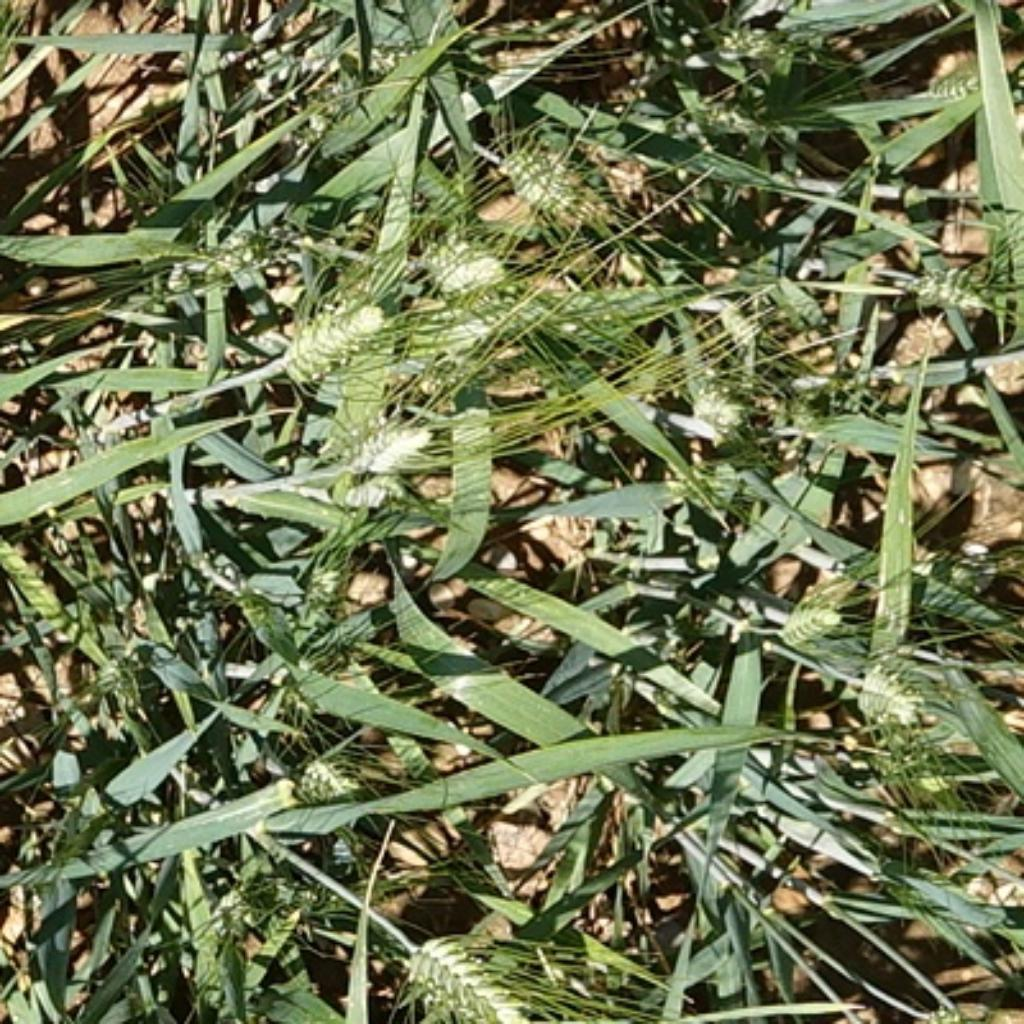0-0: (389, 927, 569, 1024), (430, 13, 614, 92), (217, 865, 332, 967), (332, 404, 463, 491), (412, 220, 527, 317), (273, 284, 386, 376), (134, 228, 275, 299), (494, 125, 599, 217), (292, 549, 399, 631), (911, 243, 1021, 322), (64, 619, 148, 714), (852, 640, 934, 734), (668, 81, 778, 151), (673, 337, 752, 432), (289, 742, 376, 814), (875, 740, 969, 801), (716, 7, 796, 71), (775, 586, 847, 642), (916, 46, 980, 102)
